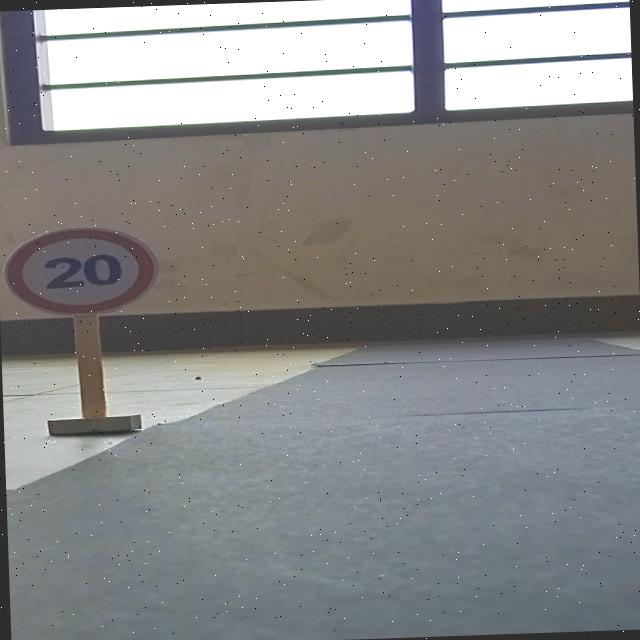Speed20: (0, 212, 170, 325)
